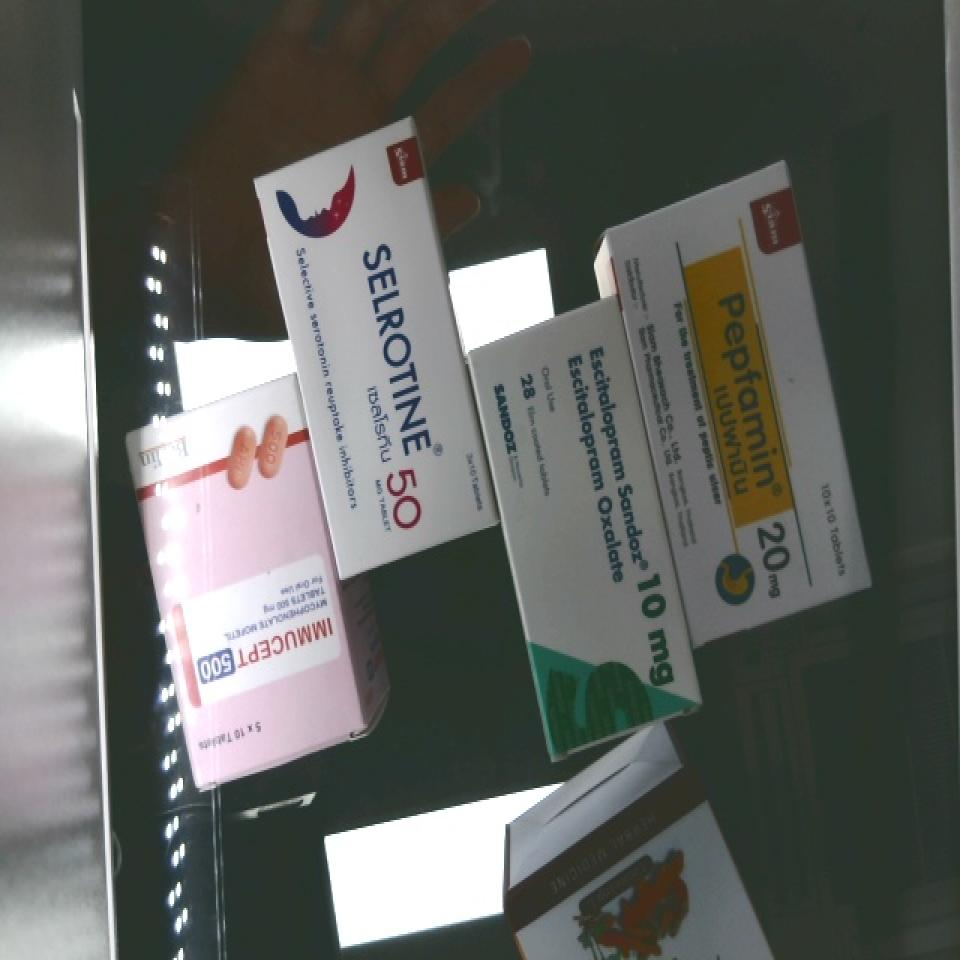medicine_box: (598, 168, 875, 647), (246, 121, 503, 583), (464, 296, 706, 760), (120, 380, 377, 796), (471, 753, 771, 960)
medicine_label_obb: (552, 320, 694, 703), (687, 252, 821, 616), (323, 220, 464, 547), (169, 583, 352, 711)
